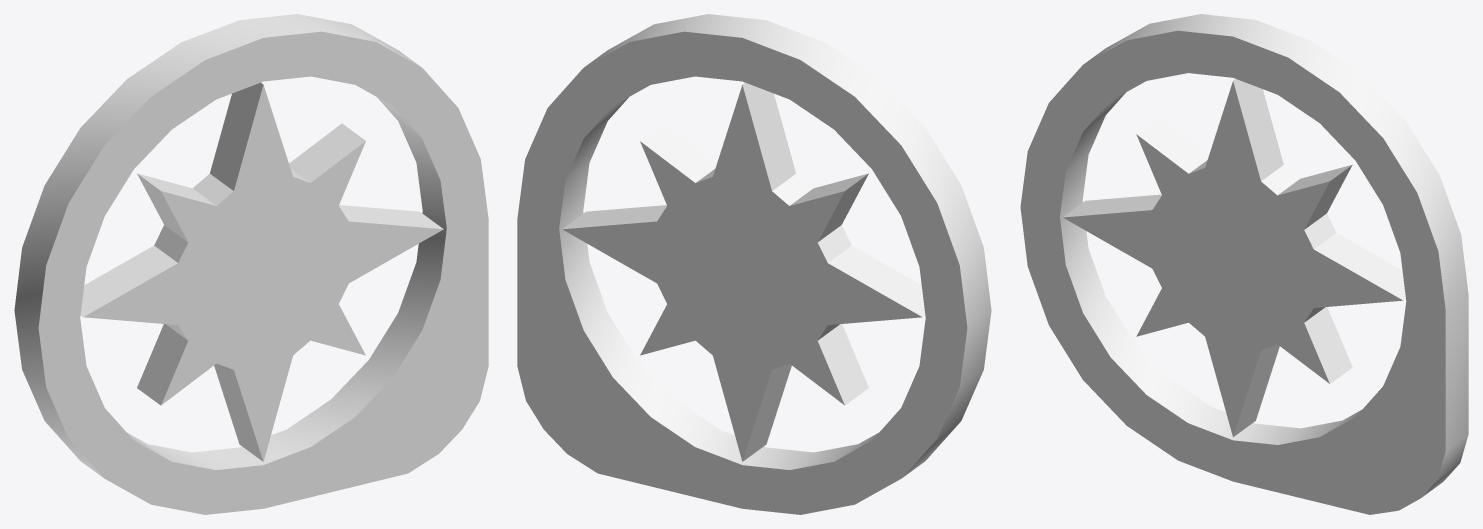
File: copy.ico.obj
The picture shows the model from 3 angles, left to right: view 1: azimuth 30°, elevation 25°; view 2: azimuth 150°, elevation 25°; view 3: azimuth 330°, elevation 25°; orthographic projection. The views are drawn at different scales.
Size of the model in its own units: 5 by 5 by 0.4639.
Materials: 1 (1 with a texture image).
